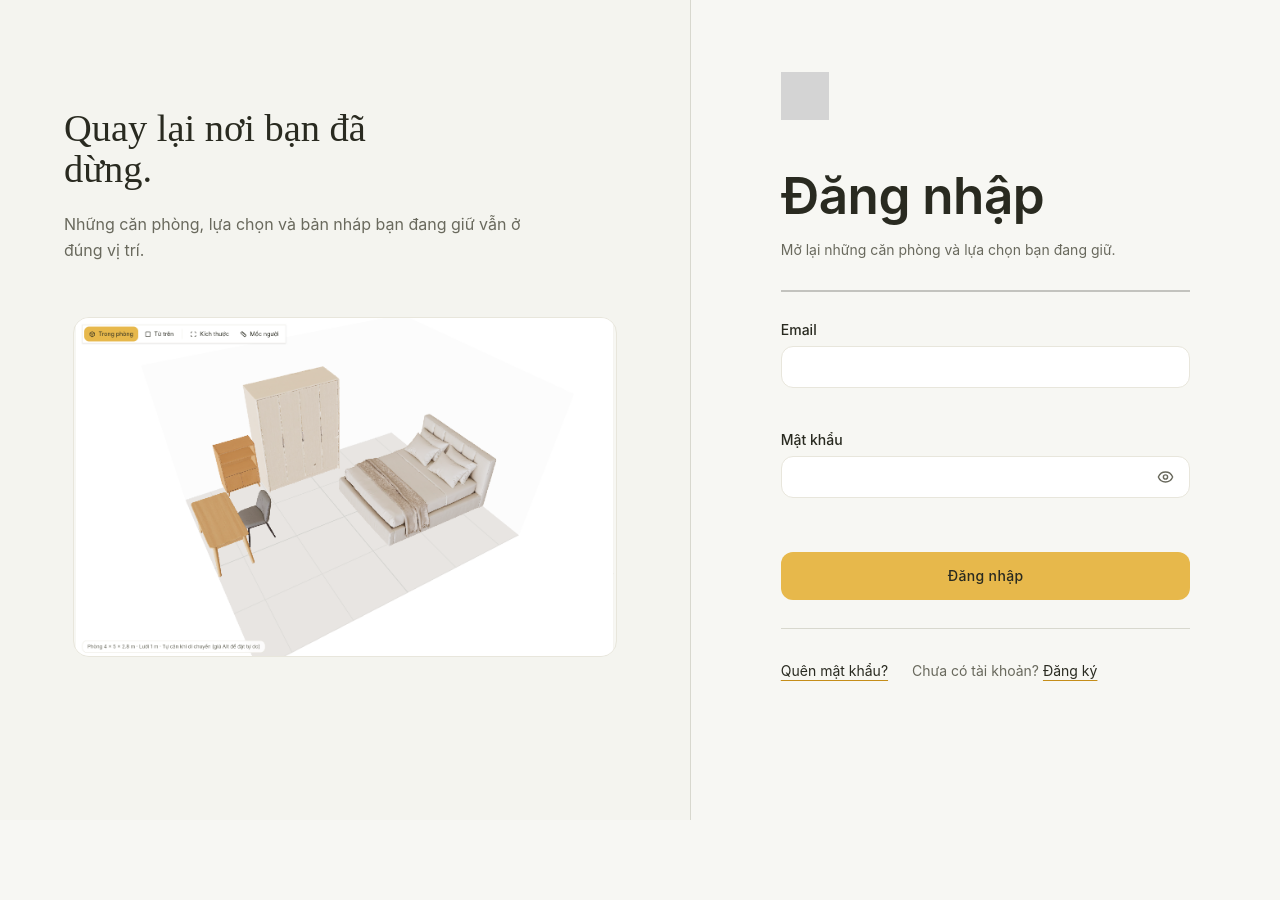
Test: LoginPage › shows a distinct message for an inactive account (403 ACCOUNT_INACTIVE)
Type "bao@example.com" into the field labelled "Email" at (986, 367), box [781,346,1190,388]
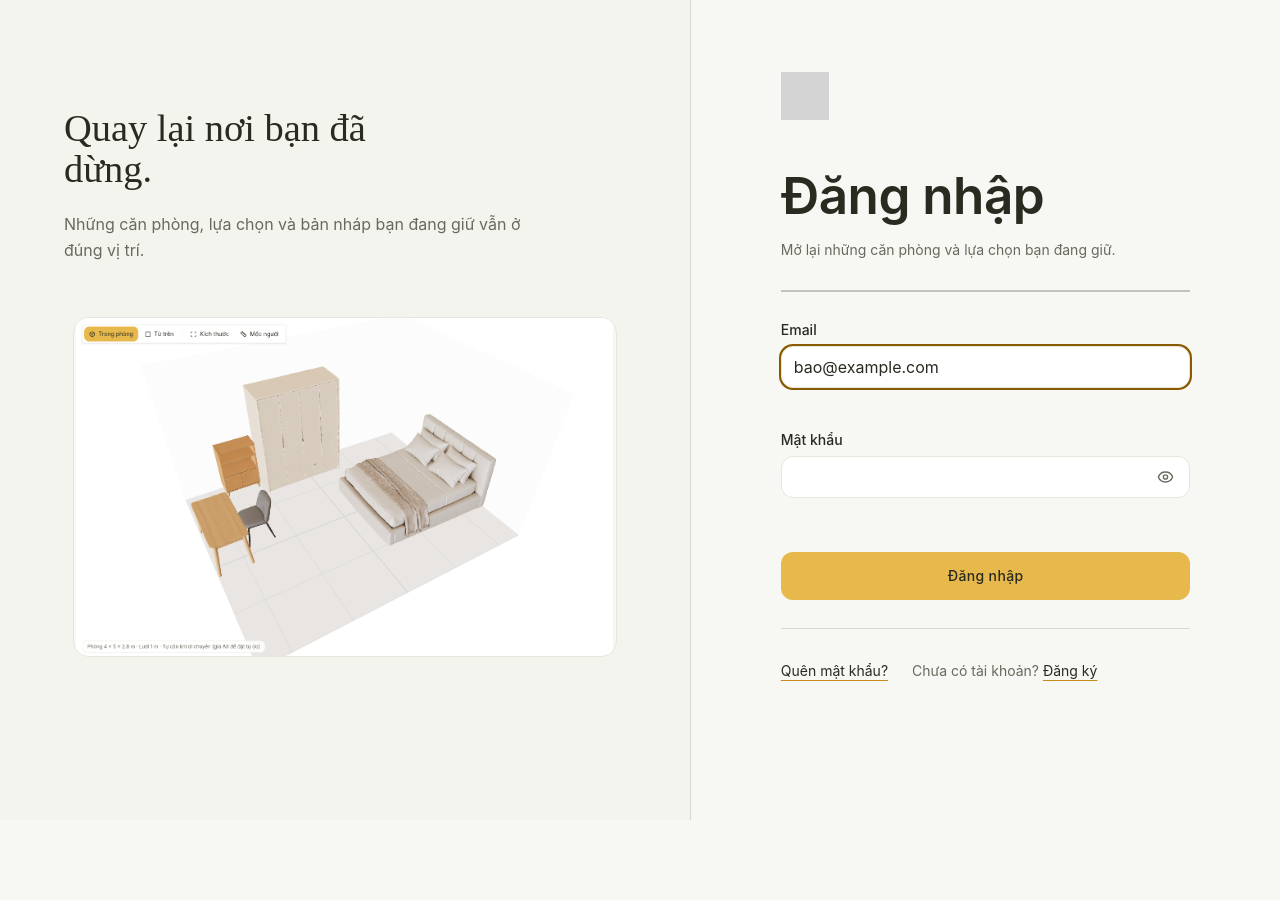
Type "password123" into the password field labelled "Mật khẩu" at (986, 477), box [781,456,1190,498]
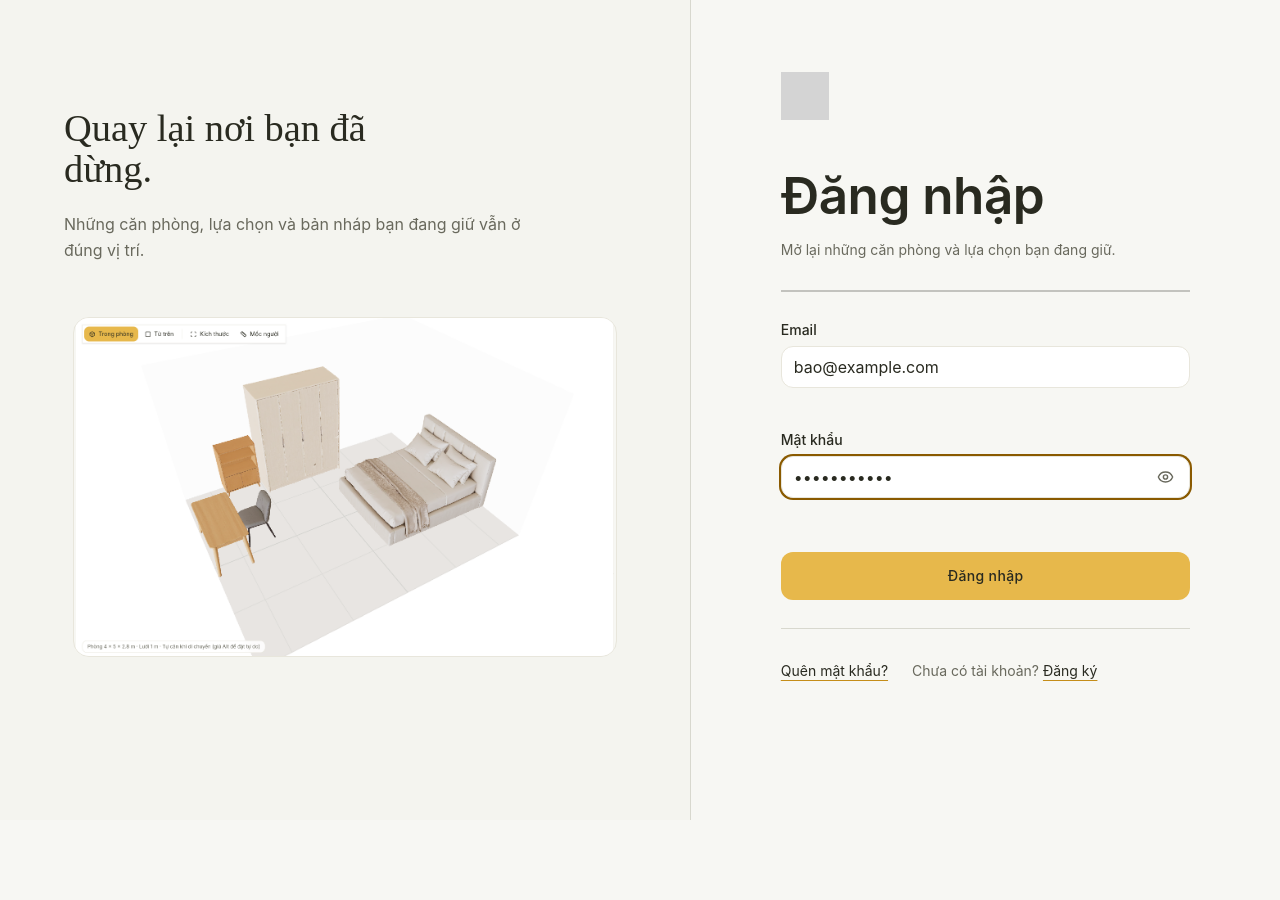
Click the button "Đăng nhập" at (986, 576), box [781,552,1190,600]
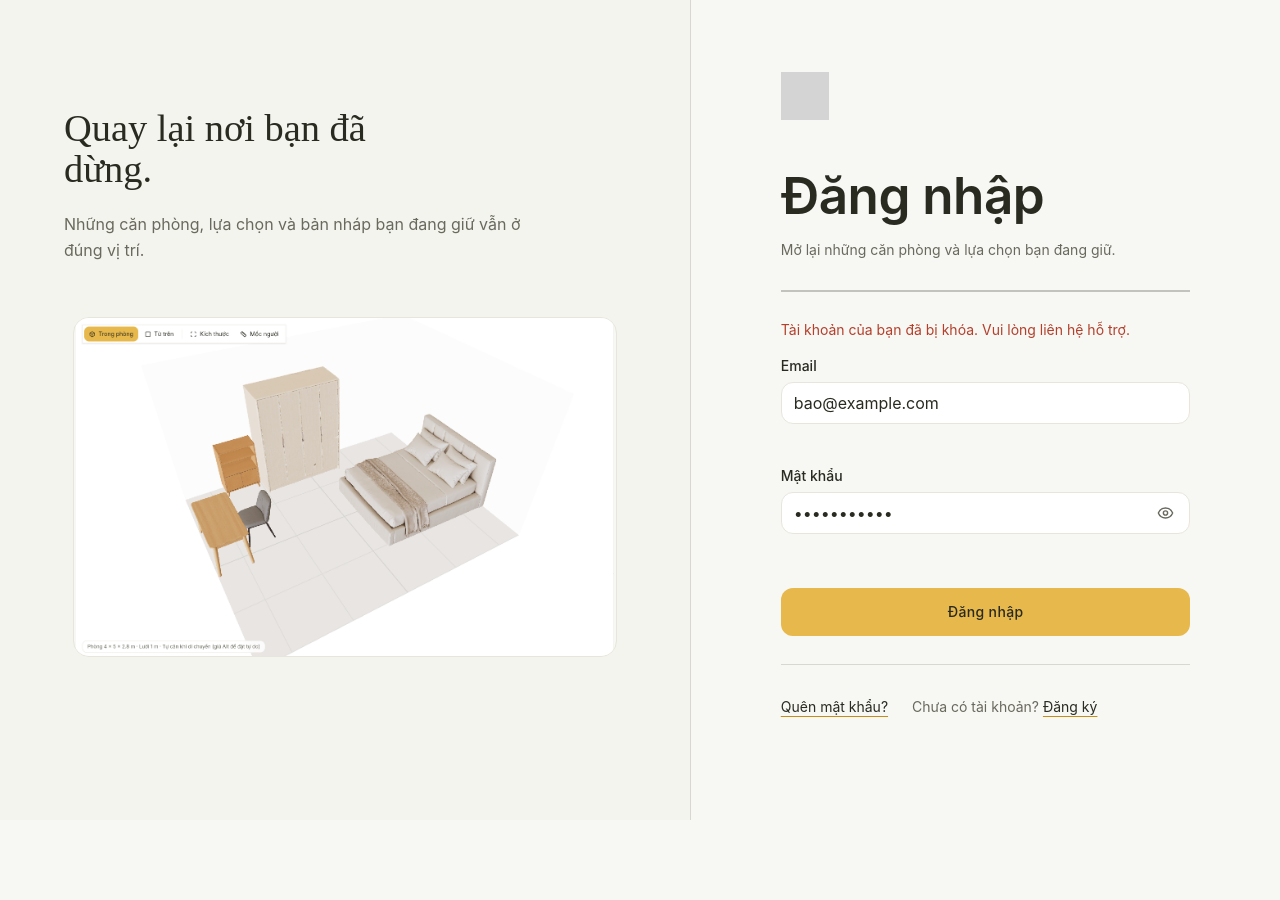
Now the text "Tài khoản của bạn đã bị khóa. Vui lòng liên hệ hỗ trợ." is shown, box [781,320,1190,340]
